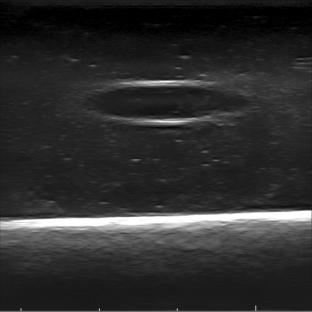vessel: (91, 80, 249, 126)
